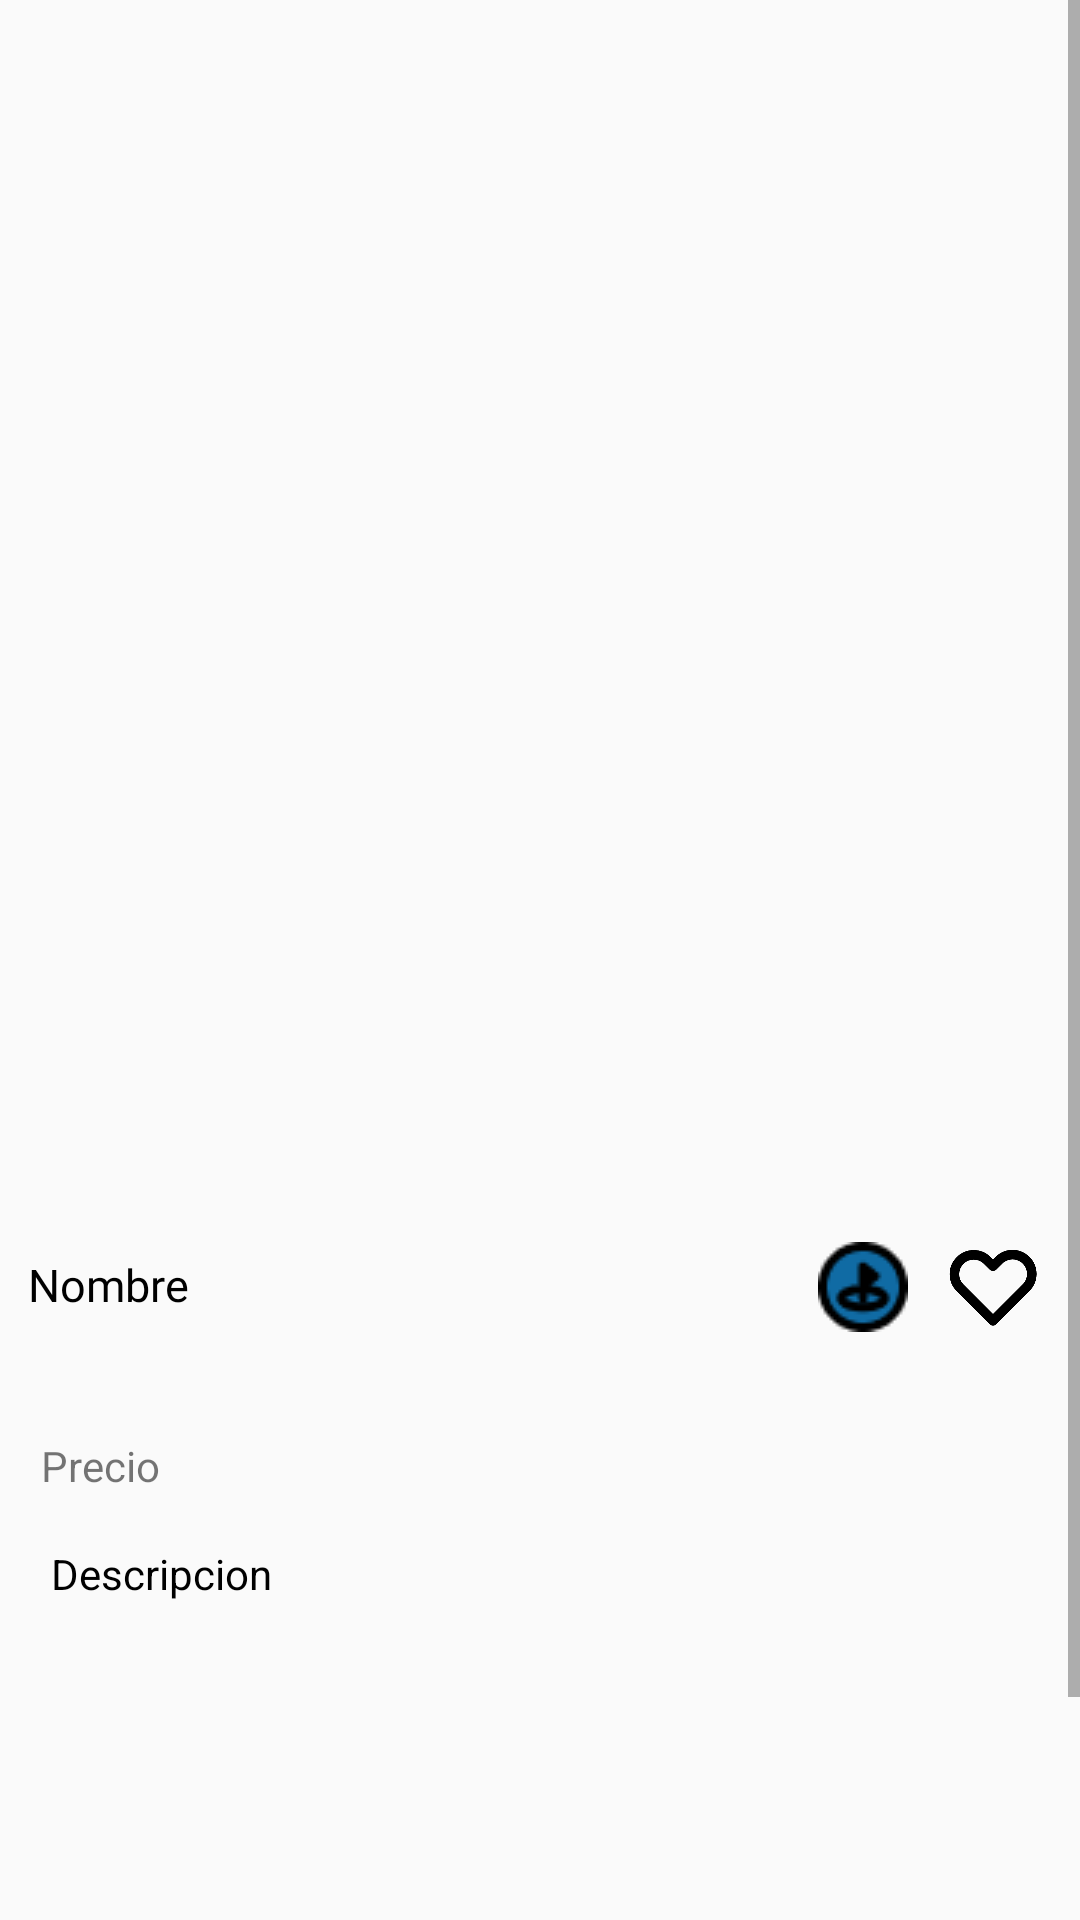

Named icons in this screenshot (1080px x 1920px) and their centers, point (x, y):
like: point (993, 1288)
